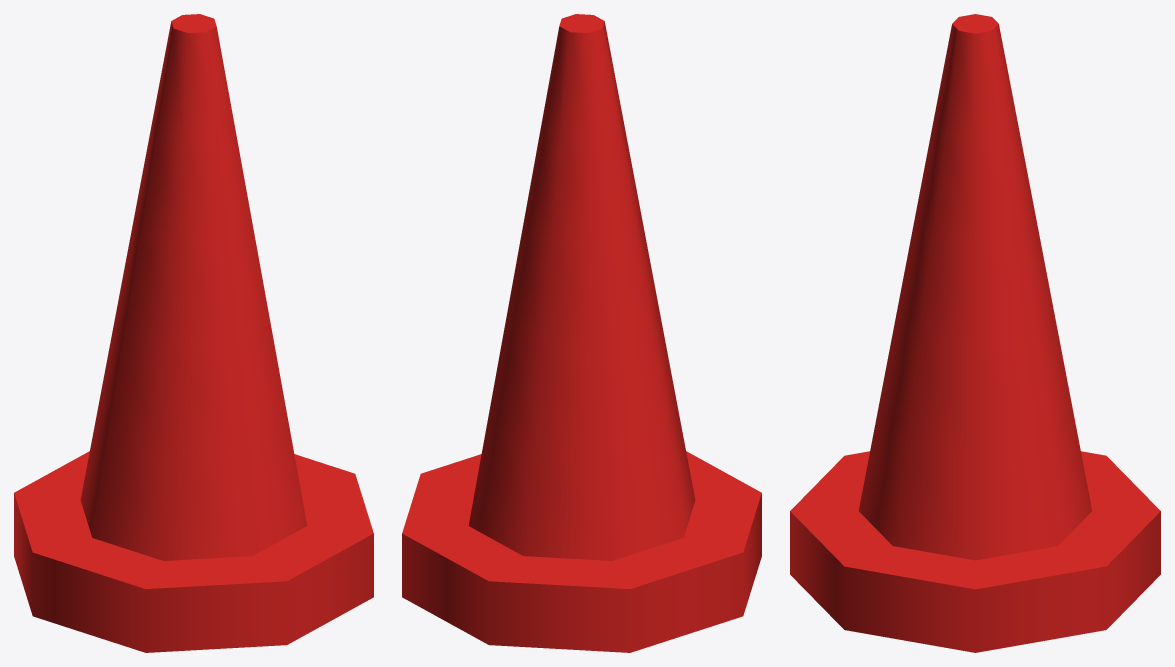
The model's file is conus.fbx.
3 renders of one model, left to right at view 1: azimuth 30°, elevation 25°; view 2: azimuth 150°, elevation 25°; view 3: azimuth 270°, elevation 25°, orthographic.
Parts seen in each view (by area): view 1: Cone_free; view 2: Cone_free; view 3: Cone_free.
Part boxes in pixels (x1,y1,x2,y2): Cone_free: (14, 14, 373, 652); Cone_free: (402, 14, 761, 652); Cone_free: (790, 14, 1160, 652).
Size of the model in its own units: 31.72 by 52 by 31.72.
